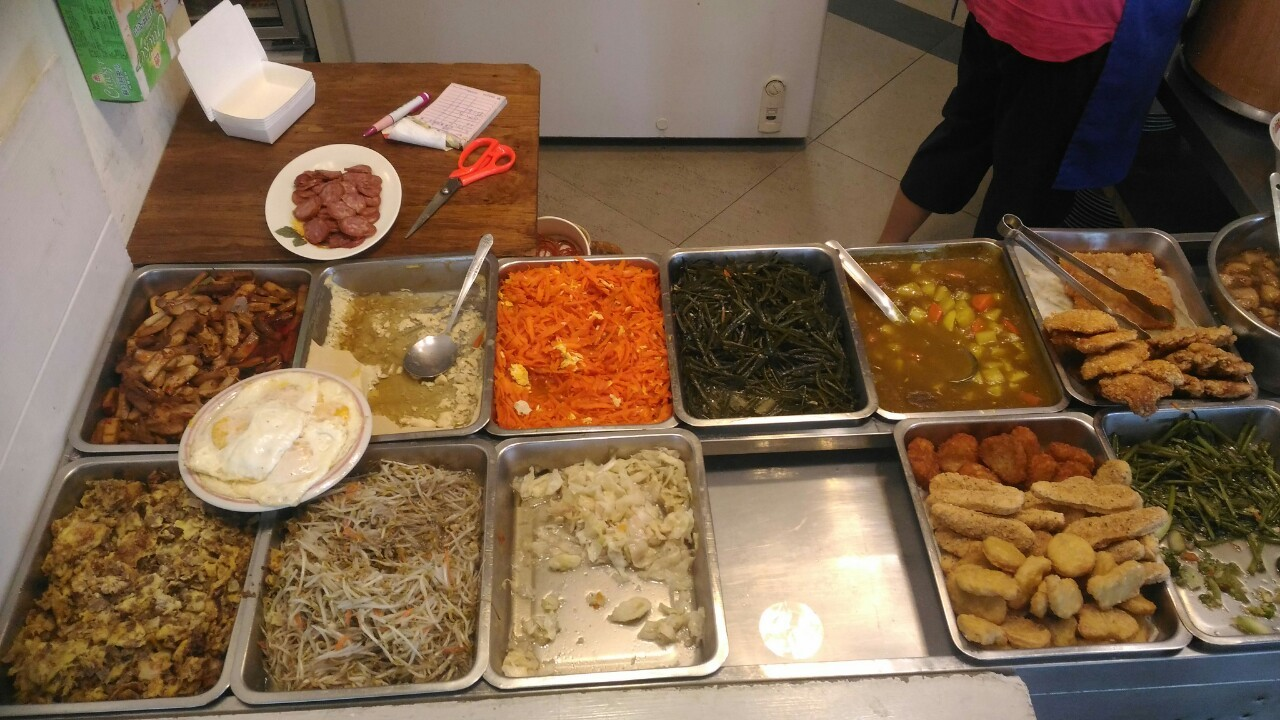carrot_eggs: (500, 267, 664, 422)
chicken_nuggets: (949, 560, 1151, 643)
chinese_cabbage: (504, 445, 705, 668)
chinese_sausage: (296, 167, 377, 249)
curry: (868, 255, 1037, 400)
fried_eggs: (192, 377, 356, 492)
mung_bean_sprouts: (271, 489, 477, 684)
triangle_hash_brown: (912, 430, 1093, 481)
water_spinach: (1142, 433, 1280, 537)
